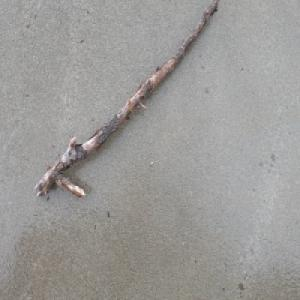Wood: (32, 0, 221, 199)
